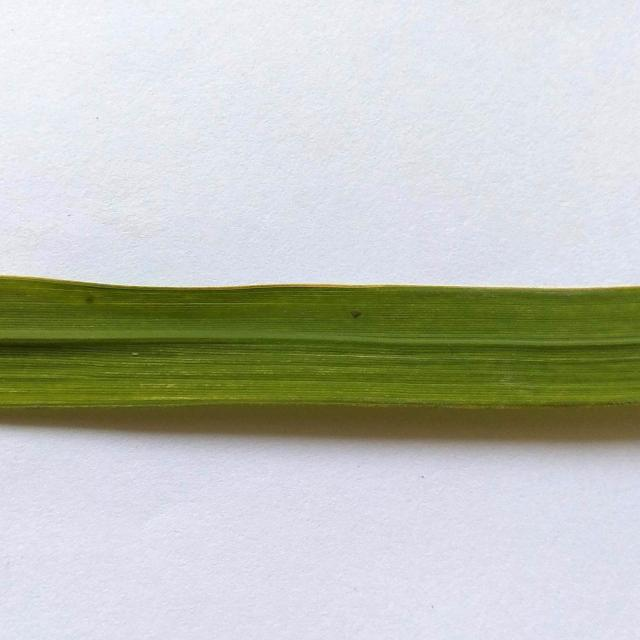healthy: (1, 245, 640, 456)
